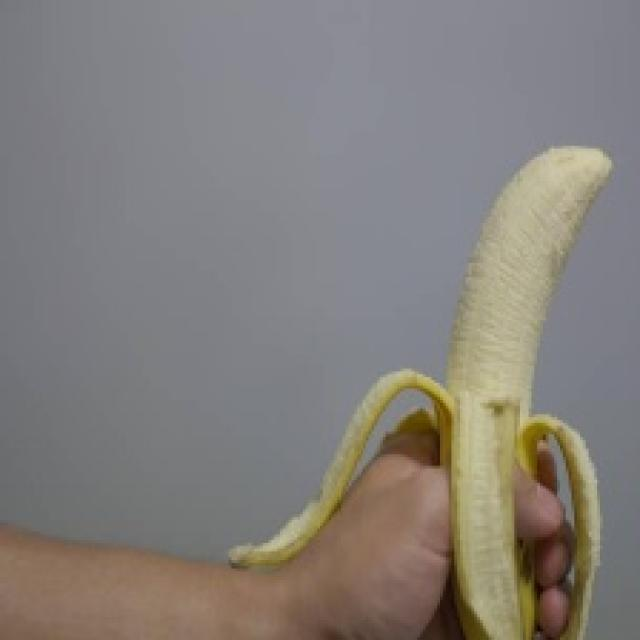Banana: (226, 143, 611, 637)
